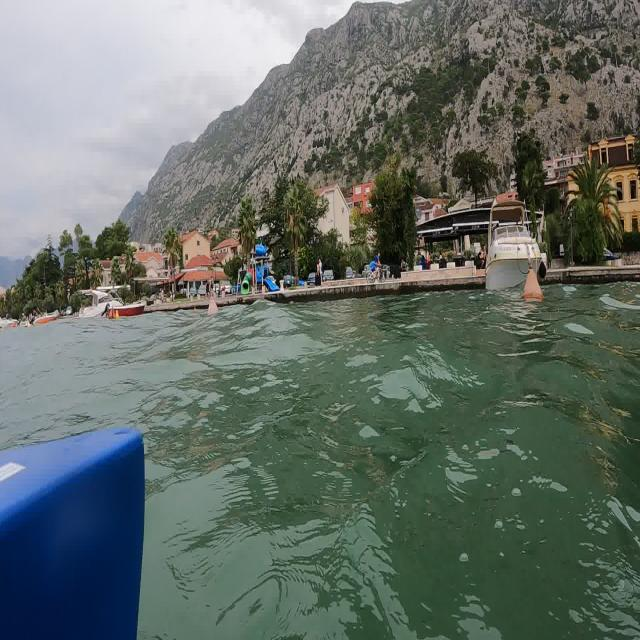boat: (482, 188, 546, 294), (70, 277, 154, 329)
buoy: (521, 264, 547, 318), (201, 292, 227, 324)
